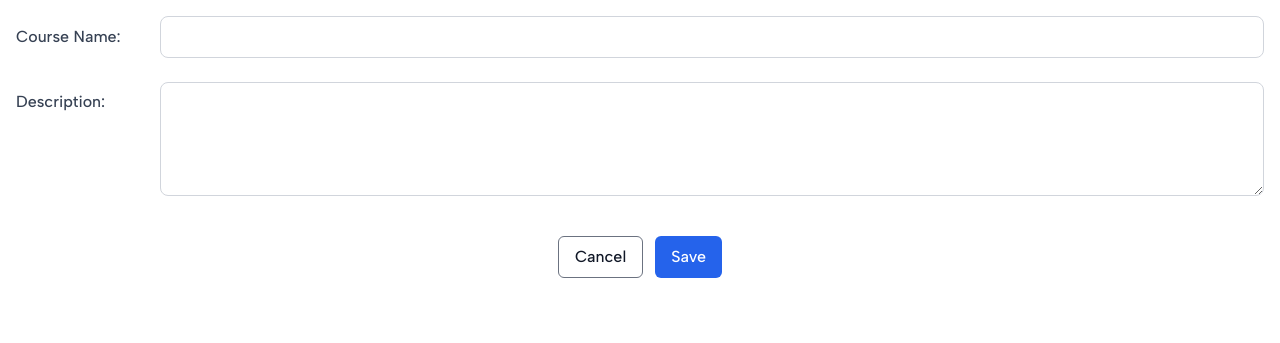
Test: CourseForm › shows validation errors when fields are empty and form is submitted
Click the button "Save" at (689, 257), box left=655, top=236, right=722, bottom=278
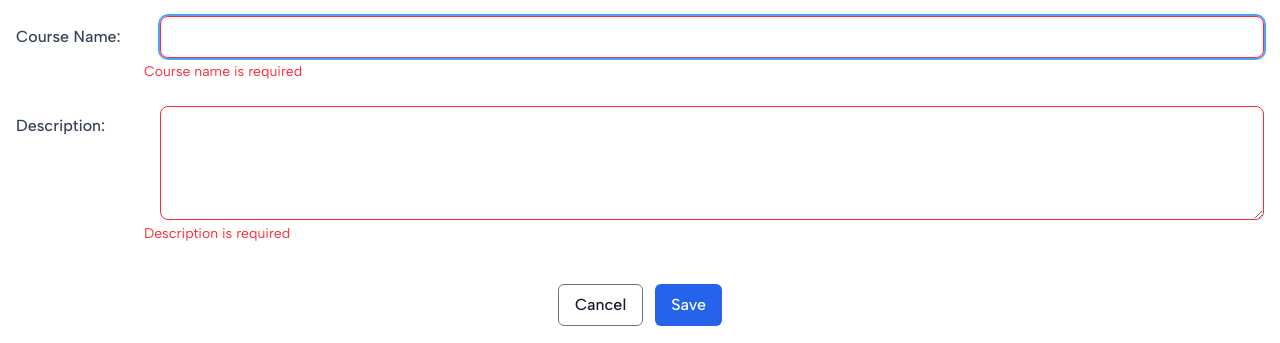
Expected: the text "Course name is required" is shown, left=144, top=63, right=302, bottom=80
Expected: the text "Description is required" is shown, left=144, top=225, right=290, bottom=242
